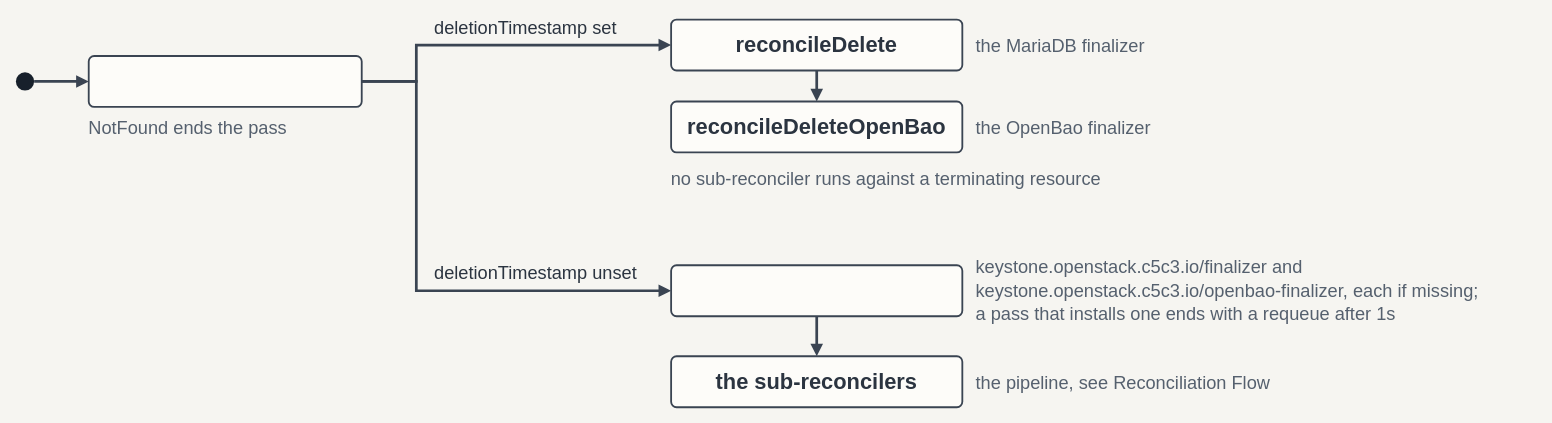
Image size: 1552x423. Some labels were removed from this diagram. Each missing label, with the centre of its shape:
"AddFinalizer" goes at (816,290).
"Fetch the Keystone" goes at (224,81).
